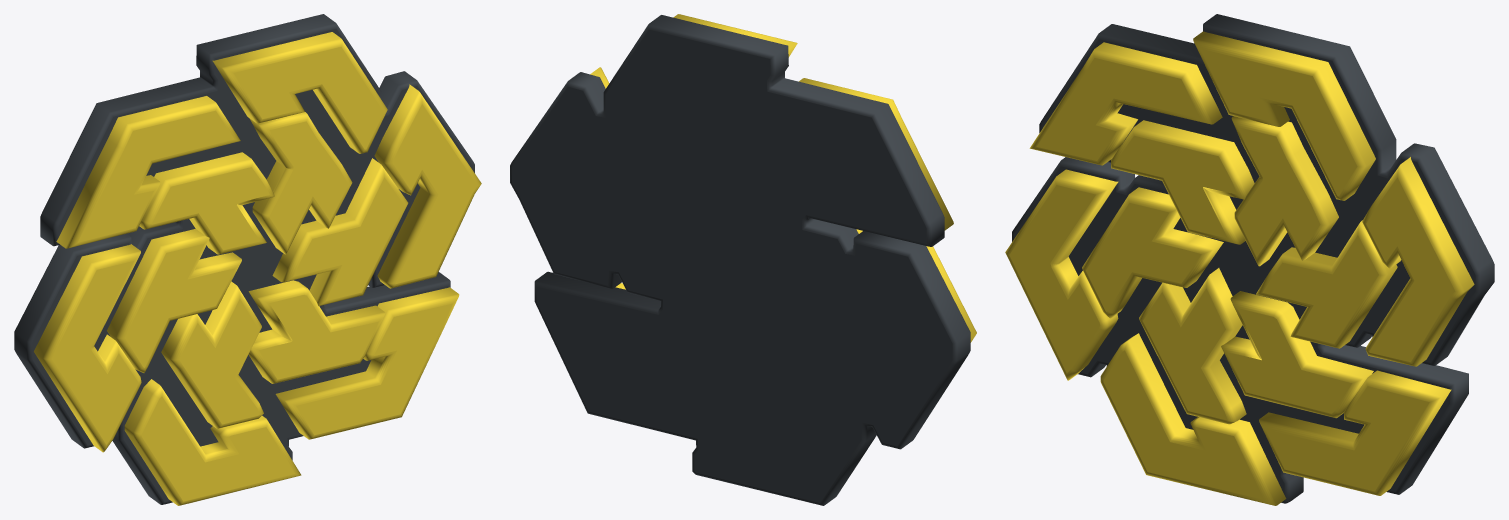
Rendered from hero_3d_emblem.glb.
3 renders of one model, left to right at view 1: azimuth 30°, elevation 25°; view 2: azimuth 150°, elevation 25°; view 3: azimuth 330°, elevation 25°, orthographic. The views are drawn at different scales.
Visible parts, largest first — view 1: base_plate, gold_piece_3, gold_piece_5, gold_piece_2, gold_piece_4, gold_piece_9, gold_piece_8, gold_piece_1, gold_piece_6, gold_piece_0, gold_piece_10, gold_piece_11 (+1 smaller); view 2: base_plate, gold_piece_5, gold_piece_8, gold_piece_3; view 3: base_plate, gold_piece_9, gold_piece_8, gold_piece_4, gold_piece_2, gold_piece_3, gold_piece_5, gold_piece_0, gold_piece_10, gold_piece_7, gold_piece_11, gold_piece_1 (+1 smaller).
Boxes of the visible parts, x1,y1,x2,y2 form: base_plate: [14, 14, 474, 504]; gold_piece_3: [34, 244, 141, 452]; gold_piece_5: [56, 96, 240, 248]; gold_piece_2: [374, 84, 481, 288]; gold_piece_4: [275, 287, 459, 439]; gold_piece_9: [124, 379, 301, 505]; gold_piece_8: [212, 32, 387, 153]; gold_piece_1: [107, 229, 241, 372]; gold_piece_6: [272, 158, 408, 305]; gold_piece_0: [248, 280, 385, 383]; gold_piece_10: [161, 281, 263, 428]; gold_piece_11: [250, 112, 352, 254]; base_plate: [510, 15, 970, 505]; gold_piece_5: [799, 78, 953, 230]; gold_piece_8: [673, 14, 797, 57]; gold_piece_3: [926, 246, 976, 342]; base_plate: [1012, 14, 1494, 503]; gold_piece_9: [1100, 333, 1286, 505]; gold_piece_8: [1193, 31, 1375, 200]; gold_piece_4: [1259, 370, 1451, 495]; gold_piece_2: [1362, 157, 1474, 366]; gold_piece_3: [1005, 169, 1118, 380]; gold_piece_5: [1029, 42, 1222, 165]; gold_piece_0: [1221, 291, 1373, 418]; gold_piece_10: [1139, 268, 1246, 424]; gold_piece_7: [1111, 120, 1254, 244]; gold_piece_11: [1231, 116, 1338, 266]; gold_piece_1: [1082, 187, 1223, 318].
Size of the model in its own units: 4.5 by 4.22 by 0.4867.
